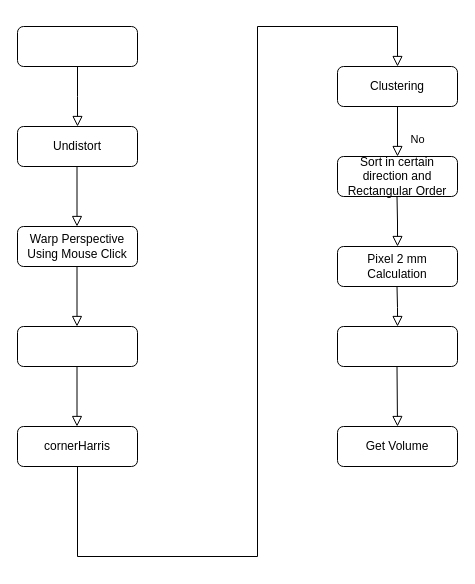
Image size: 475x584. Some labels were removed from this diagram. Each missing label, with the box of its shape:
Filter (Median): (16, 326, 138, 366)
Get Distance: (336, 326, 458, 366)
Image Upload: (16, 26, 138, 66)
